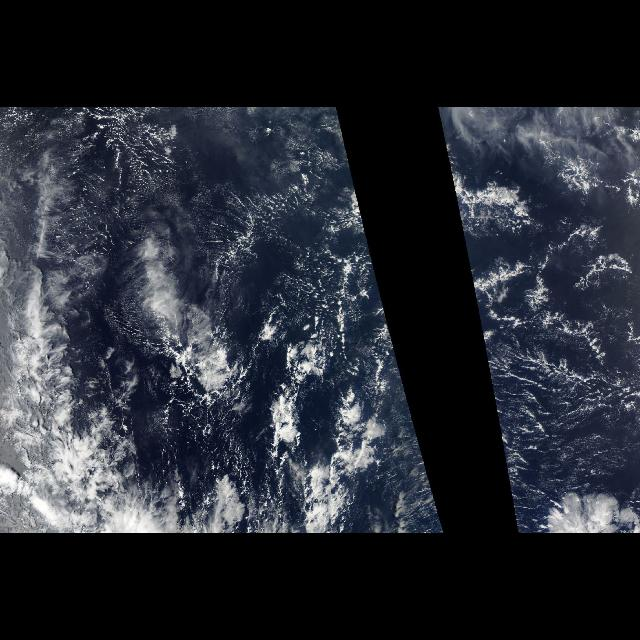Sugar: (476, 298, 640, 502)
